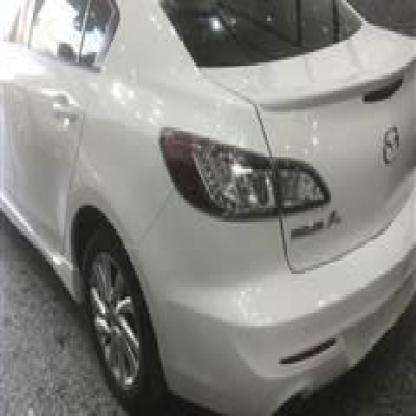Car: (0, 0, 416, 406)
